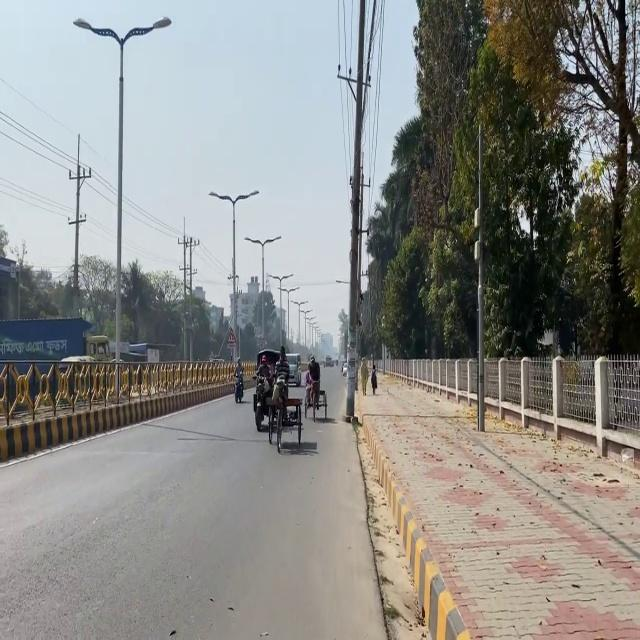Construction-barrier: (358, 413, 472, 638), (344, 362, 389, 638)
Fallen-tree: (233, 371, 244, 403)
Garbage: (267, 397, 303, 451), (304, 387, 327, 420)
Garbage-bin: (370, 366, 378, 394)
Light-pole: (474, 120, 486, 431)
Pole: (0, 348, 228, 460)
Pothole: (356, 364, 639, 639)
Traffic-cone: (248, 342, 300, 442)
